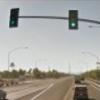traffic lights: (68, 10, 78, 30)
